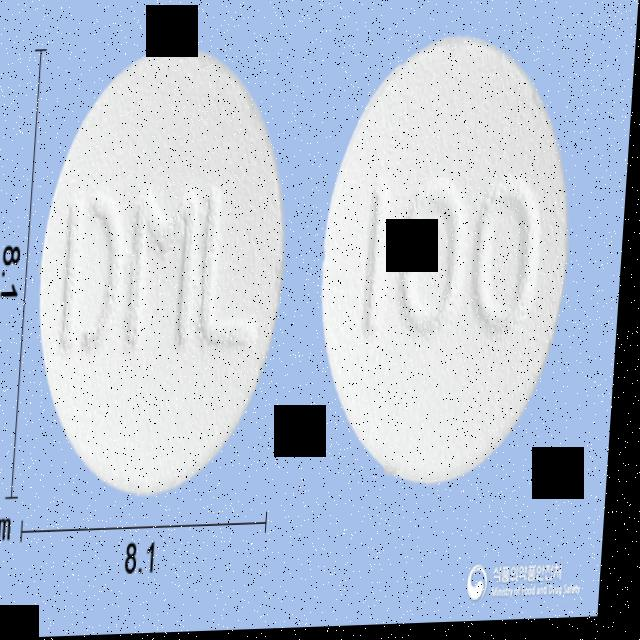Ciprofloxacin Tab- Pharma: (314, 34, 583, 489), (33, 41, 299, 500)
